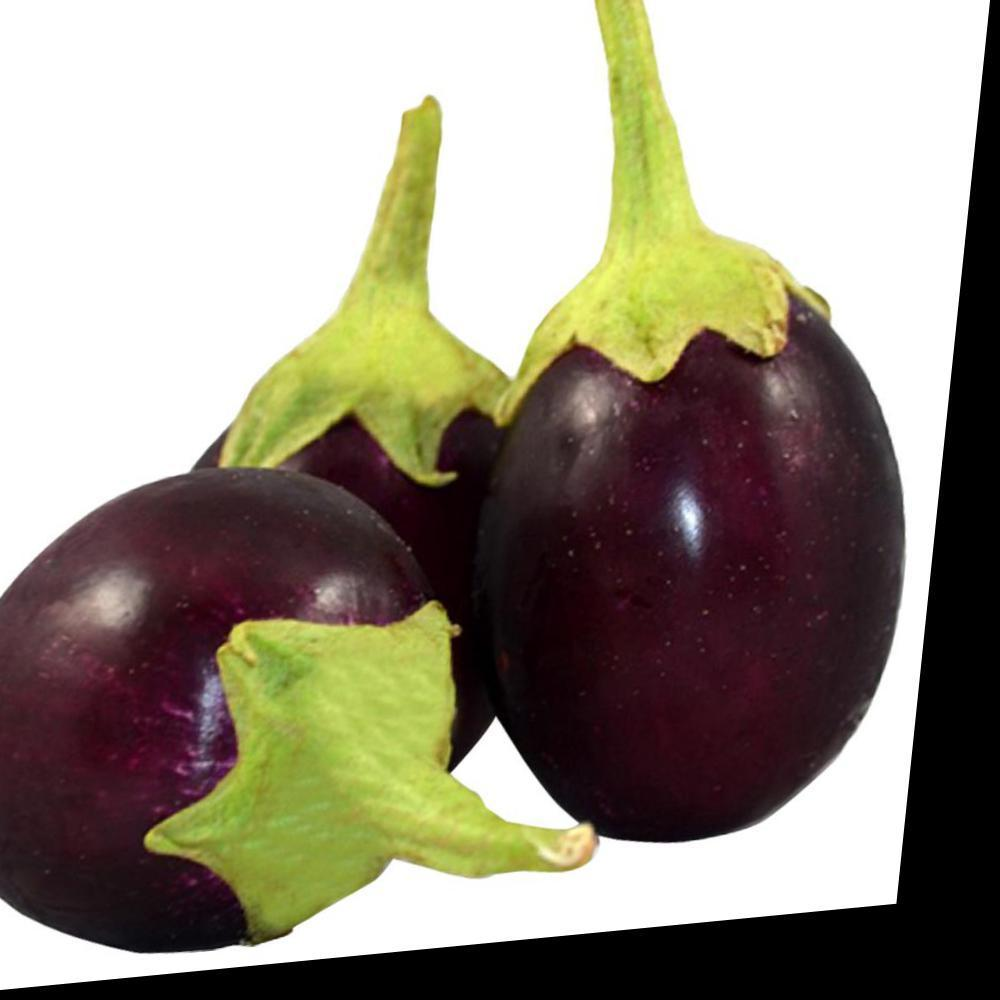eggplant: (204, 48, 972, 886), (0, 428, 590, 976)
